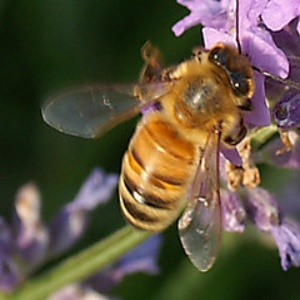bee: (39, 38, 275, 277)
